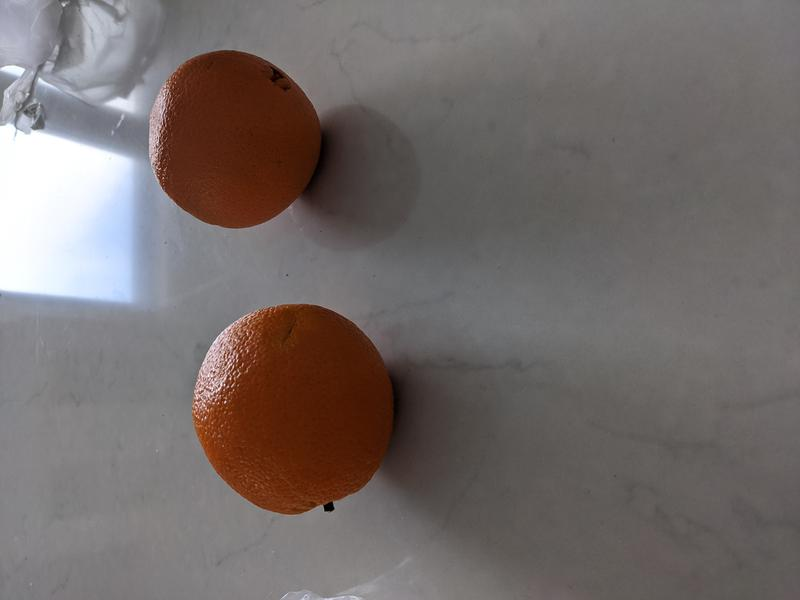orange: (191, 301, 397, 515), (148, 50, 324, 228)
